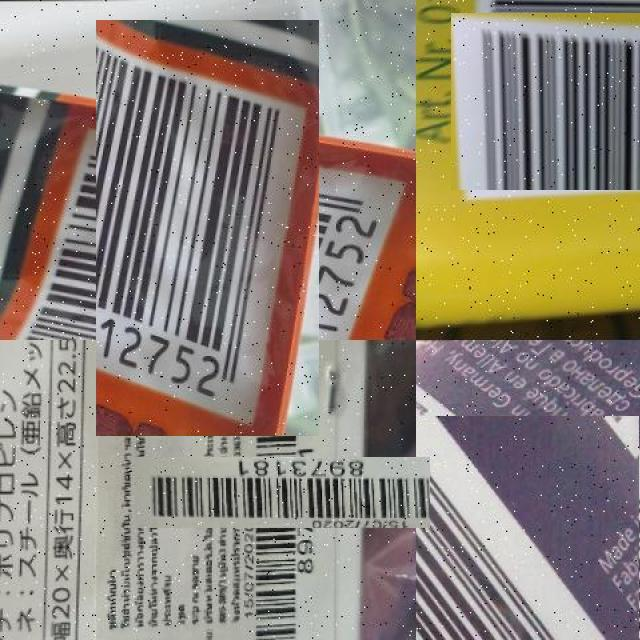Barcode: (48, 68, 368, 388), (416, 416, 640, 640), (457, 7, 640, 196), (191, 401, 374, 584)
